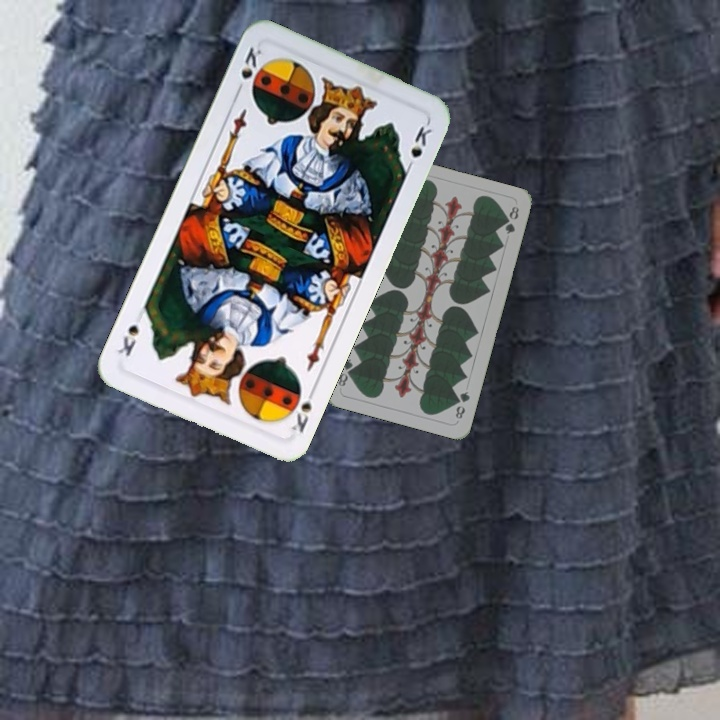G8: (451, 387, 472, 422)
SK: (231, 42, 265, 98), (287, 383, 319, 436)
